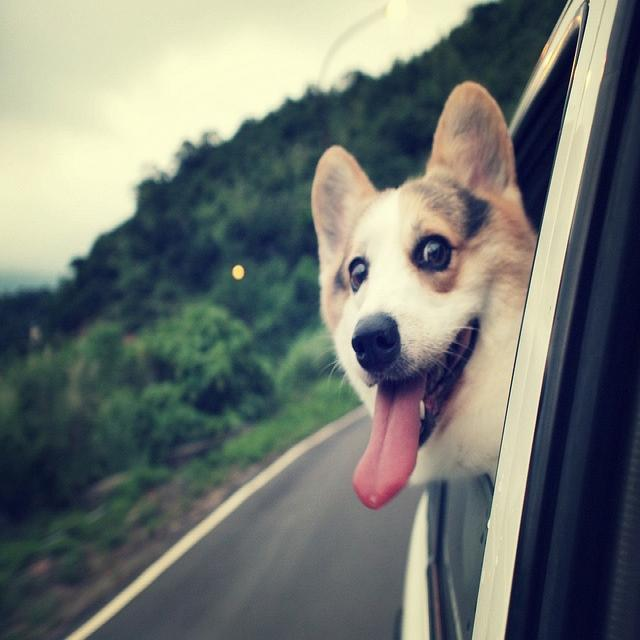dog: (309, 80, 535, 508)
